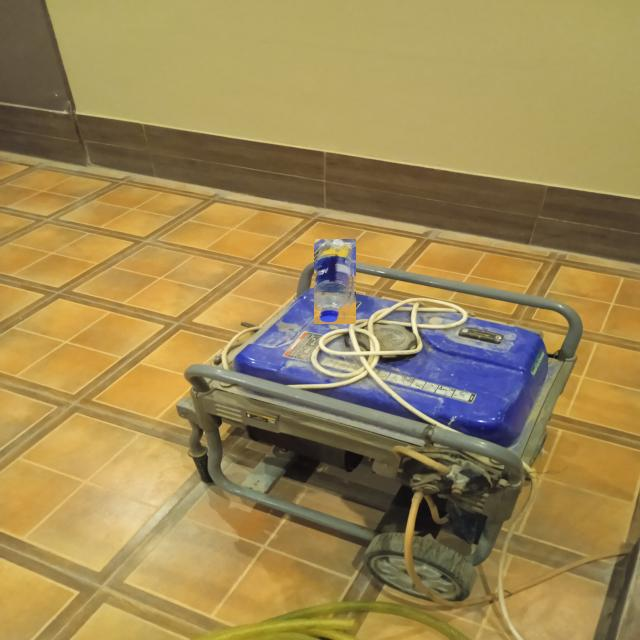Plastic: (314, 238, 356, 324)
